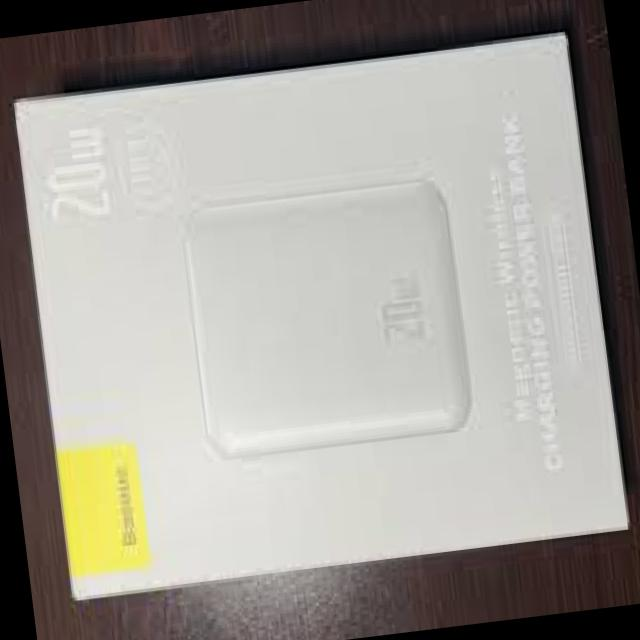portable-charger: (177, 170, 473, 459)
